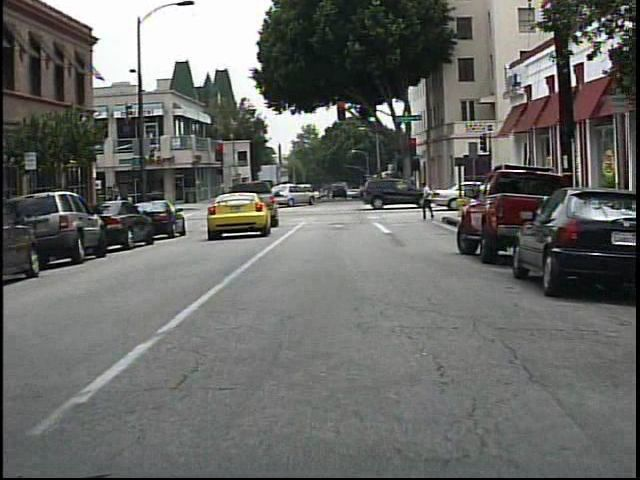person: (417, 179, 441, 223)
